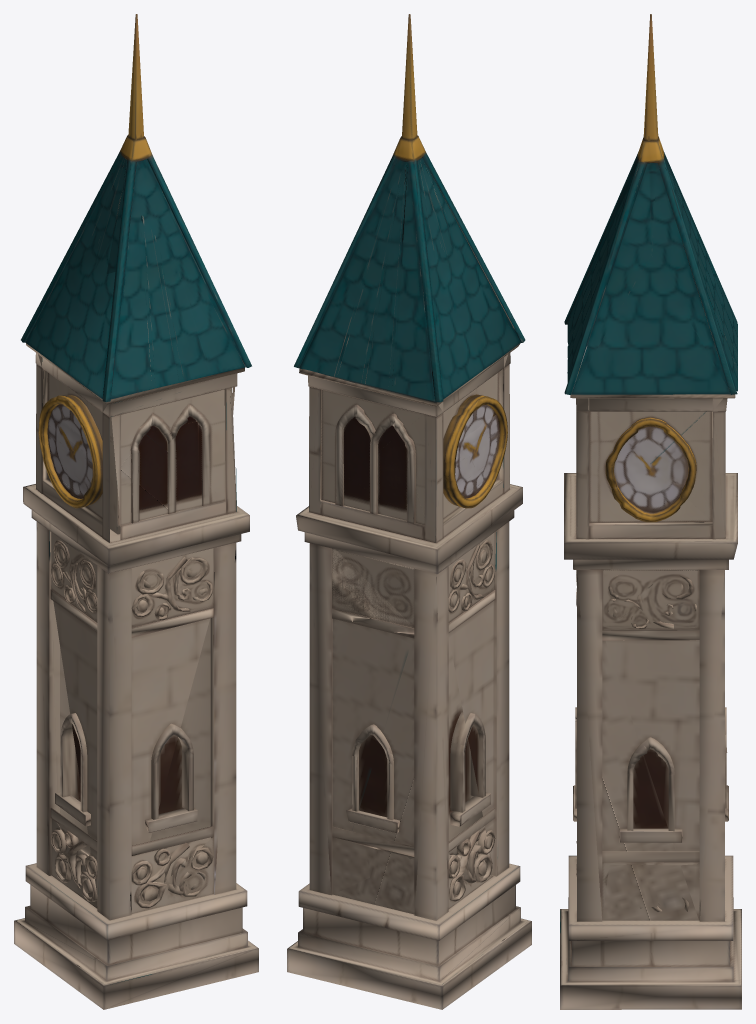
The model's file is clock_tower.glb.
The picture shows the model from 3 angles, left to right: view 1: azimuth 30°, elevation 25°; view 2: azimuth 150°, elevation 25°; view 3: azimuth 270°, elevation 25°; orthographic projection.
Visible parts, largest first — view 1: geometry_0; view 2: geometry_0; view 3: geometry_0.
Part boxes in pixels (<box>): geometry_0: <box>14,14,258,1009</box>; geometry_0: <box>287,14,531,1009</box>; geometry_0: <box>560,14,741,1009</box>.
Size of the model in its own units: 0.1636 by 0.9512 by 0.1636.
1 material, 1 textured.
